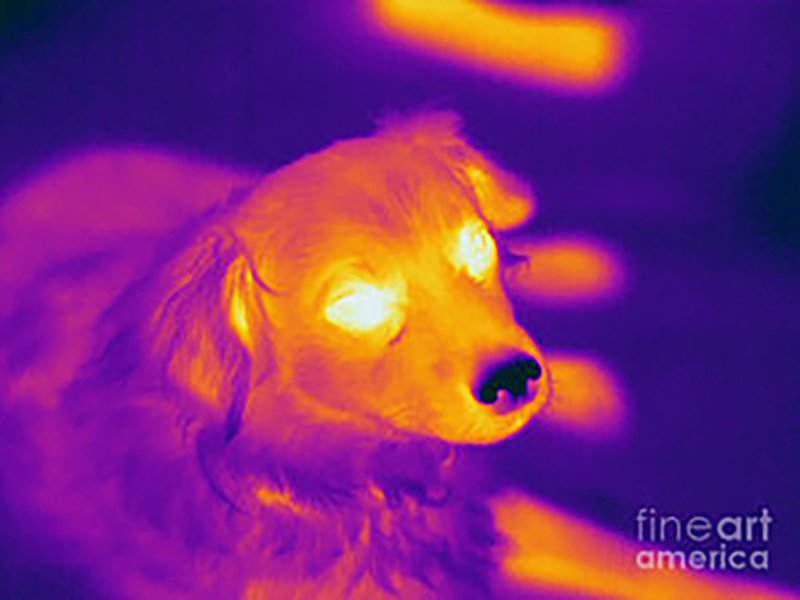cane da caccia: (7, 135, 576, 595)
